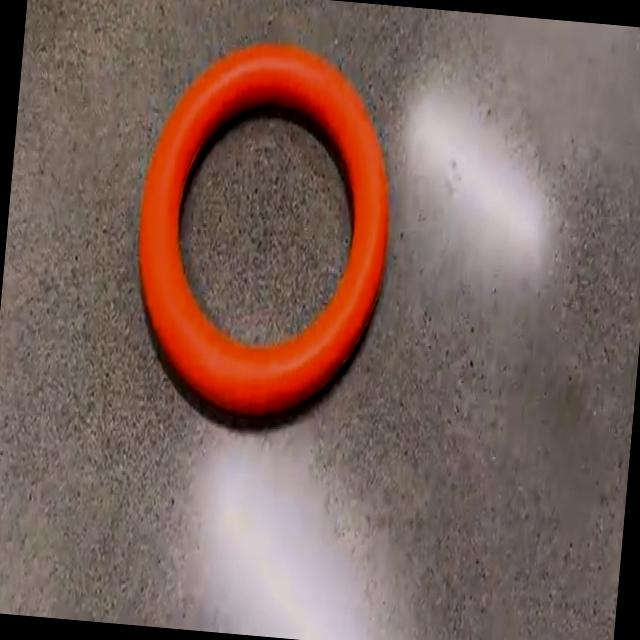note: (138, 45, 388, 414)
